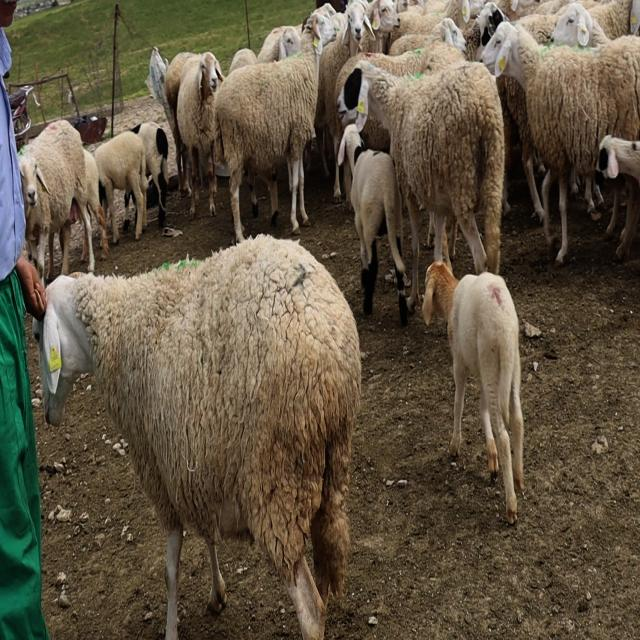Score_5: (33, 234, 361, 639)
